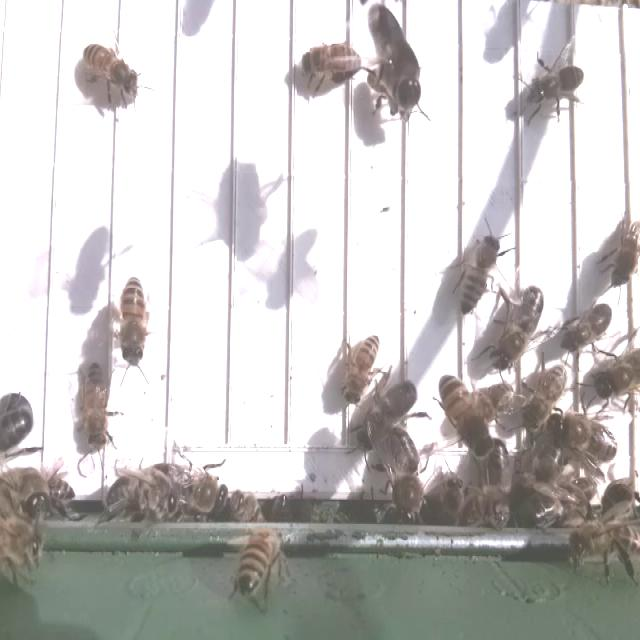Drone: (490, 278, 546, 371), (354, 372, 422, 446), (544, 410, 623, 470)
Worker: (438, 371, 496, 463), (458, 230, 503, 320), (81, 41, 140, 98), (339, 329, 382, 405), (115, 275, 148, 371), (559, 301, 613, 356), (82, 356, 110, 455), (525, 62, 586, 107), (296, 40, 364, 80)
